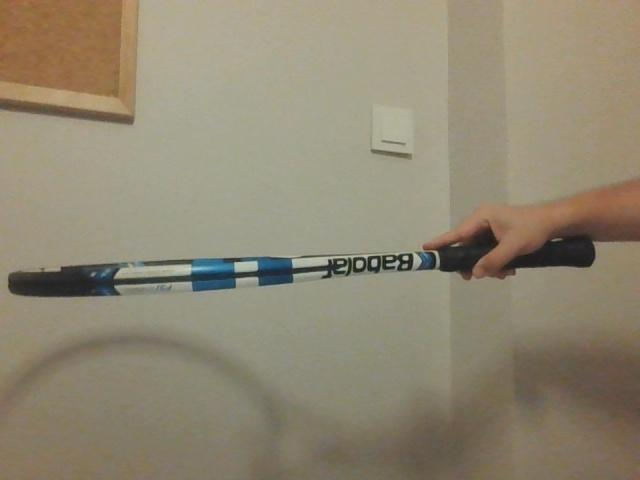Tennis-Racket: (10, 236, 606, 290)
